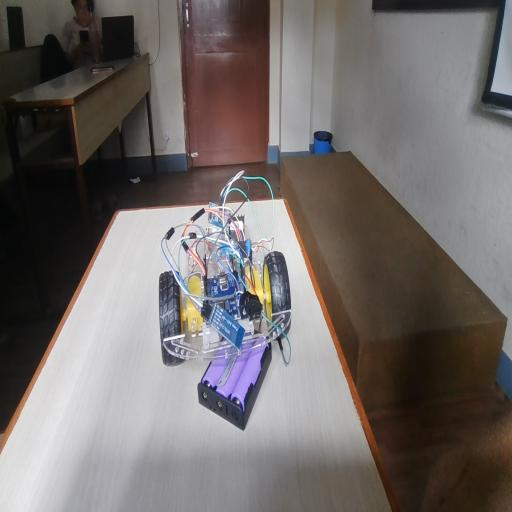car: (136, 183, 312, 410)
